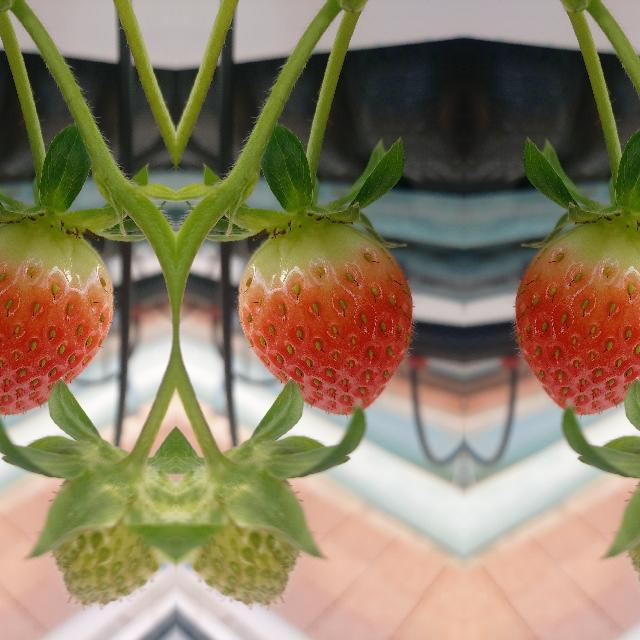Health_100: (237, 222, 411, 414), (515, 222, 640, 414), (0, 222, 113, 414)
Health_25: (186, 470, 300, 602), (50, 470, 164, 602)
